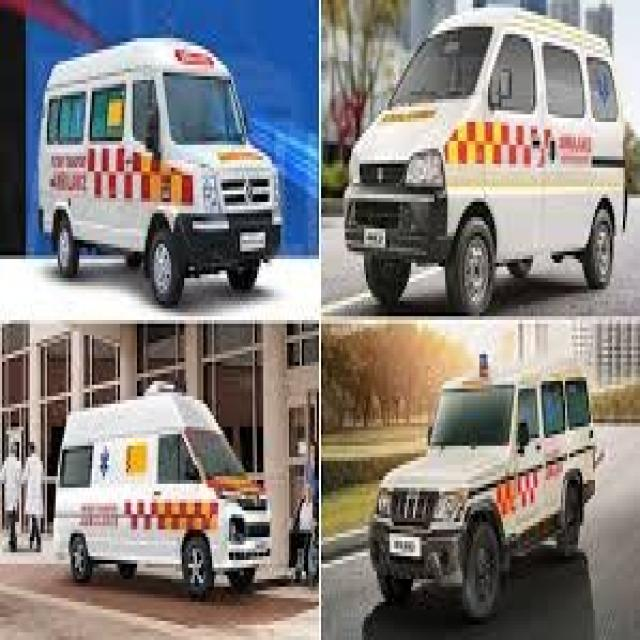ambulance: (337, 5, 627, 295), (29, 38, 297, 310), (361, 342, 614, 616), (41, 393, 277, 598)
